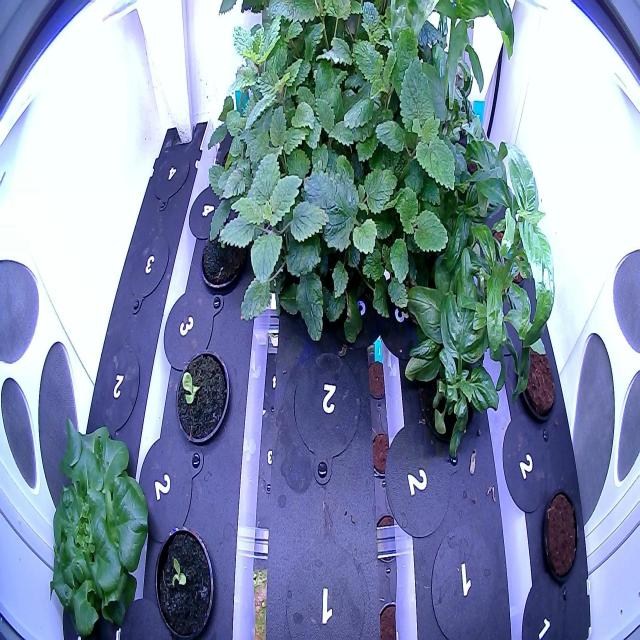empty_pod: (276, 527, 372, 637), (287, 343, 363, 469), (422, 515, 501, 636), (94, 337, 144, 443), (124, 229, 172, 321), (150, 146, 192, 213)
germination: (151, 520, 218, 638), (172, 343, 231, 448)
pod: (536, 481, 582, 588), (514, 341, 560, 428), (196, 217, 248, 293)
